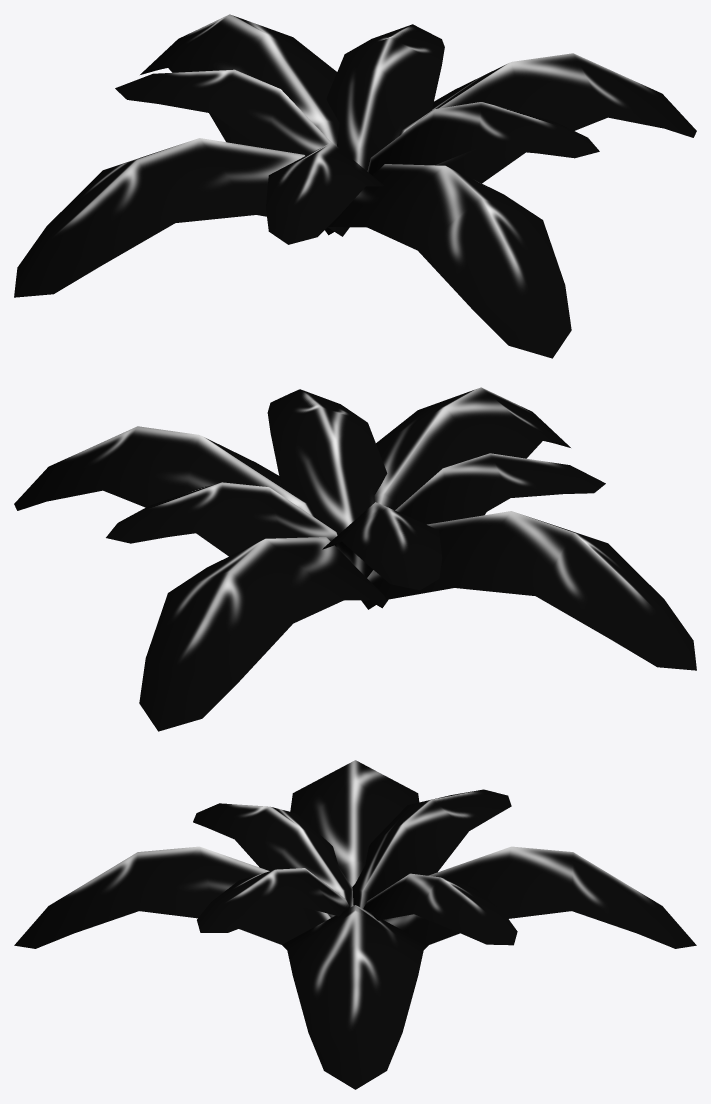
File: Bushes.fbx
The picture shows the model from 3 angles, top to bottom: view 1: azimuth 30°, elevation 25°; view 2: azimuth 150°, elevation 25°; view 3: azimuth 270°, elevation 25°; orthographic projection. The views are drawn at different scales.
Visible parts, largest first — view 1: Bushes; view 2: Bushes; view 3: Bushes.
Part boxes in pixels (x1,y1,x2,y2): Bushes: [14, 14, 696, 358]; Bushes: [14, 387, 696, 731]; Bushes: [14, 760, 696, 1089].
Size of the model in its own units: 188 by 35.91 by 188.
